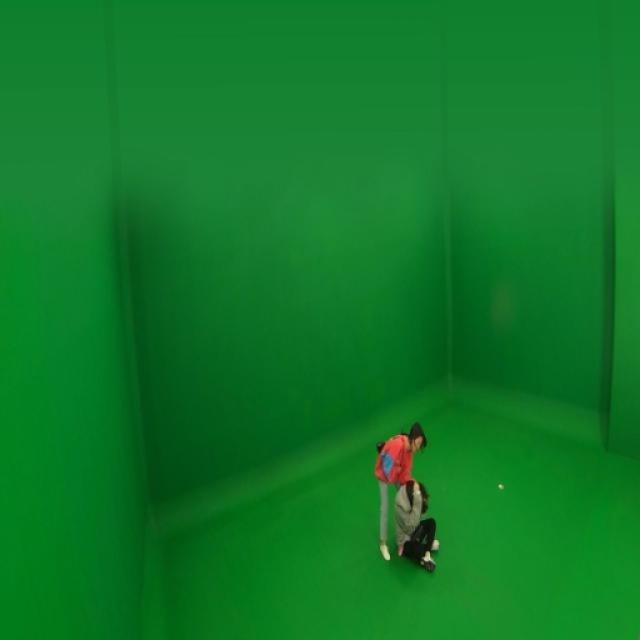violence: (374, 423, 442, 571)
